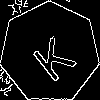K: (25, 27, 78, 84)
